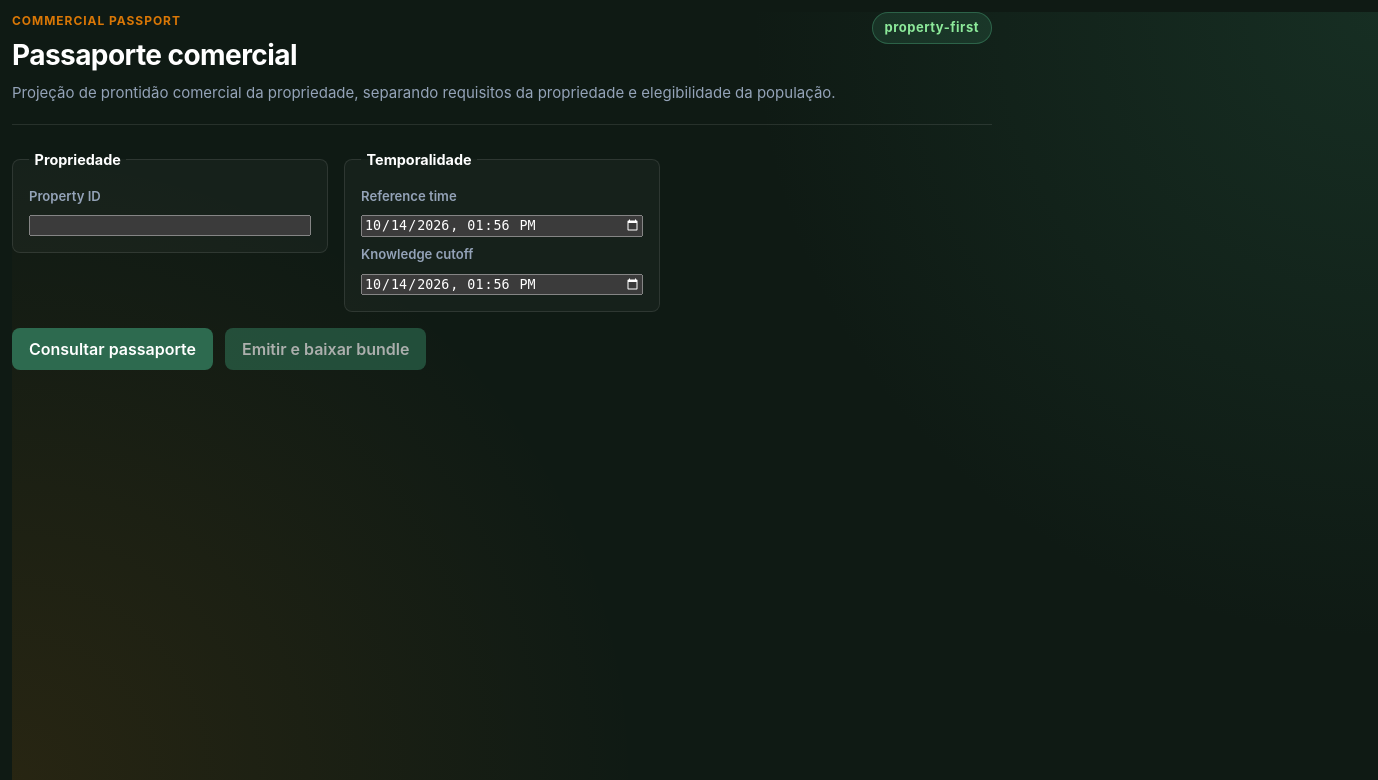
it: CommercialPassport › trata 503 como capacidade indisponível sem expor detalhe operacional bruto
Type "11111111-1111-1111-1111-111111111111" into the field labelled "Property ID" at (170, 226), box 29,215 -> 311,236
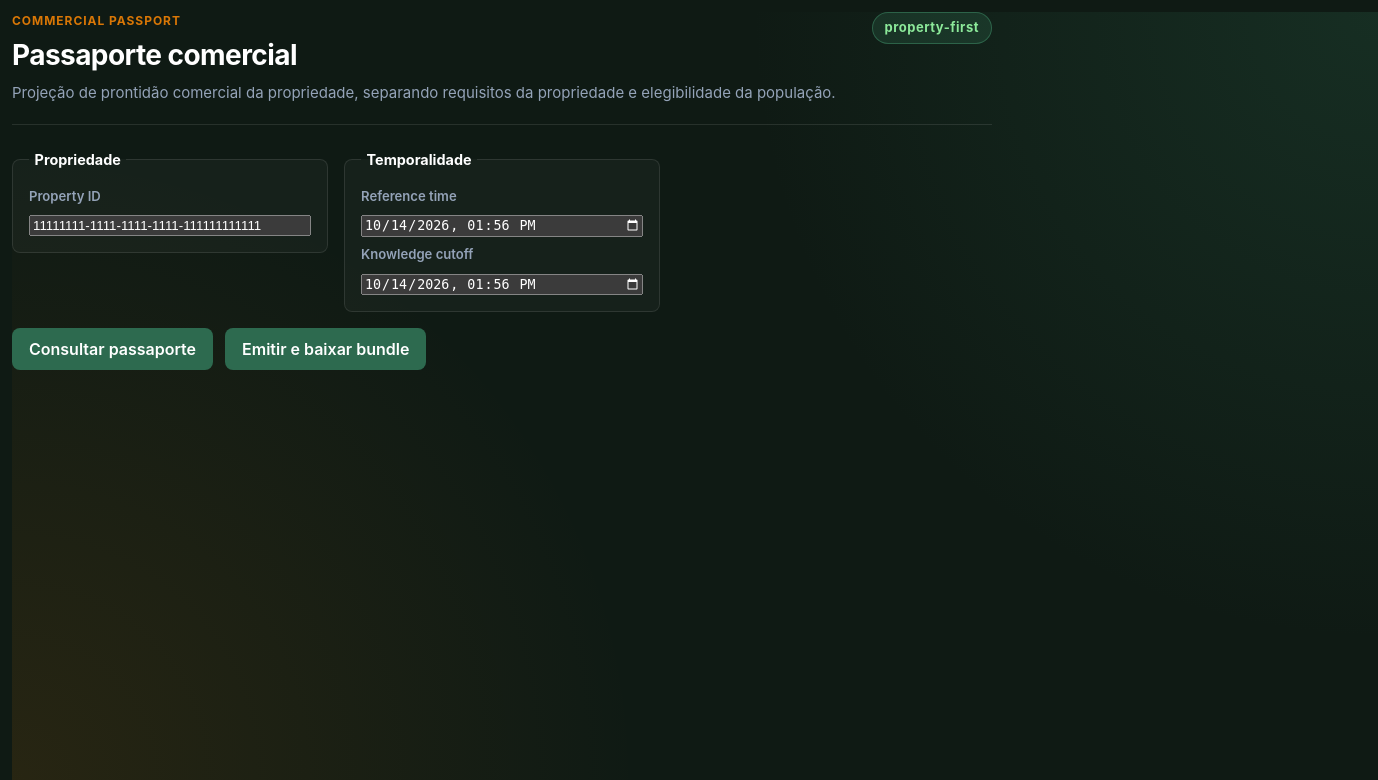
Click the button "Consultar passaporte" at (112, 349), box 12,328 -> 213,370
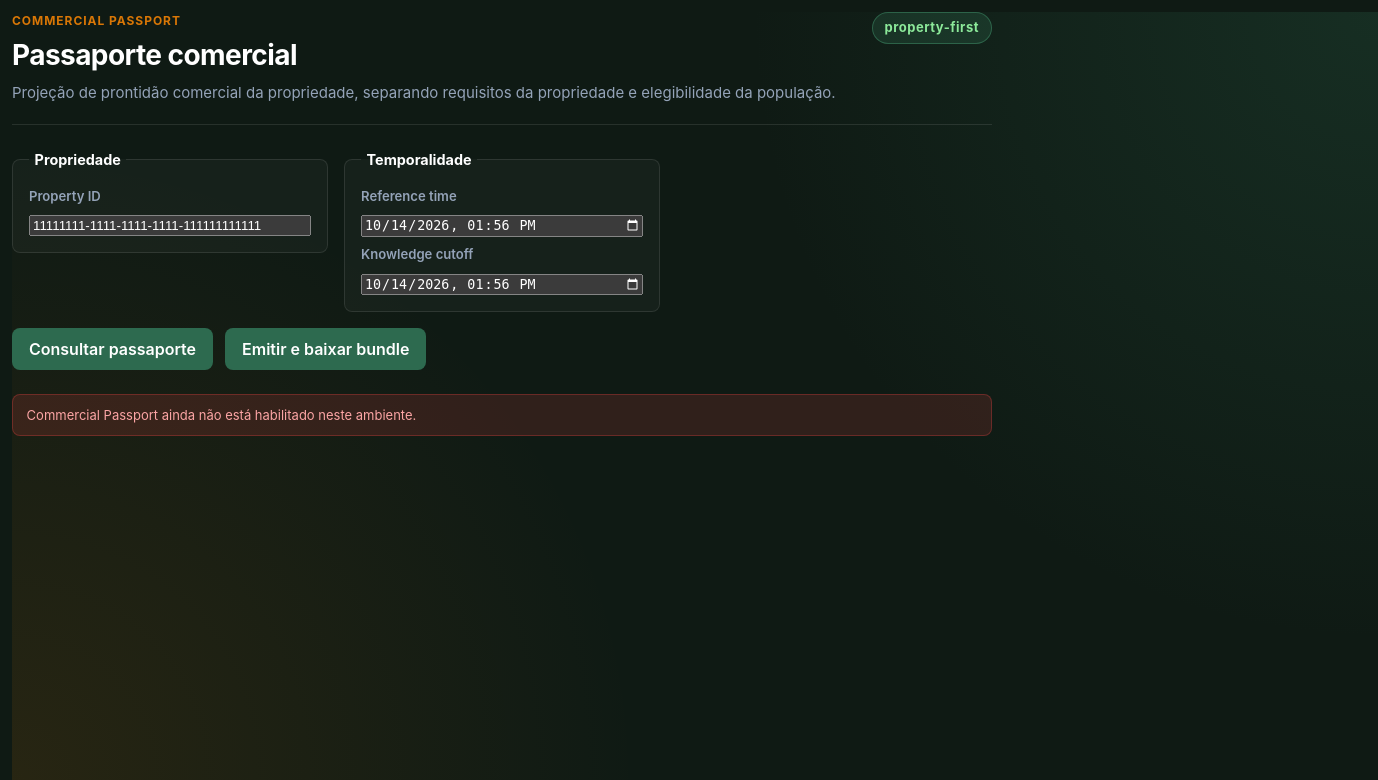
Expected: the message does not show "pipeline interna desligada", 12,394 -> 992,436
Now the message shows "não está habilitado", box 27,406 -> 416,422
